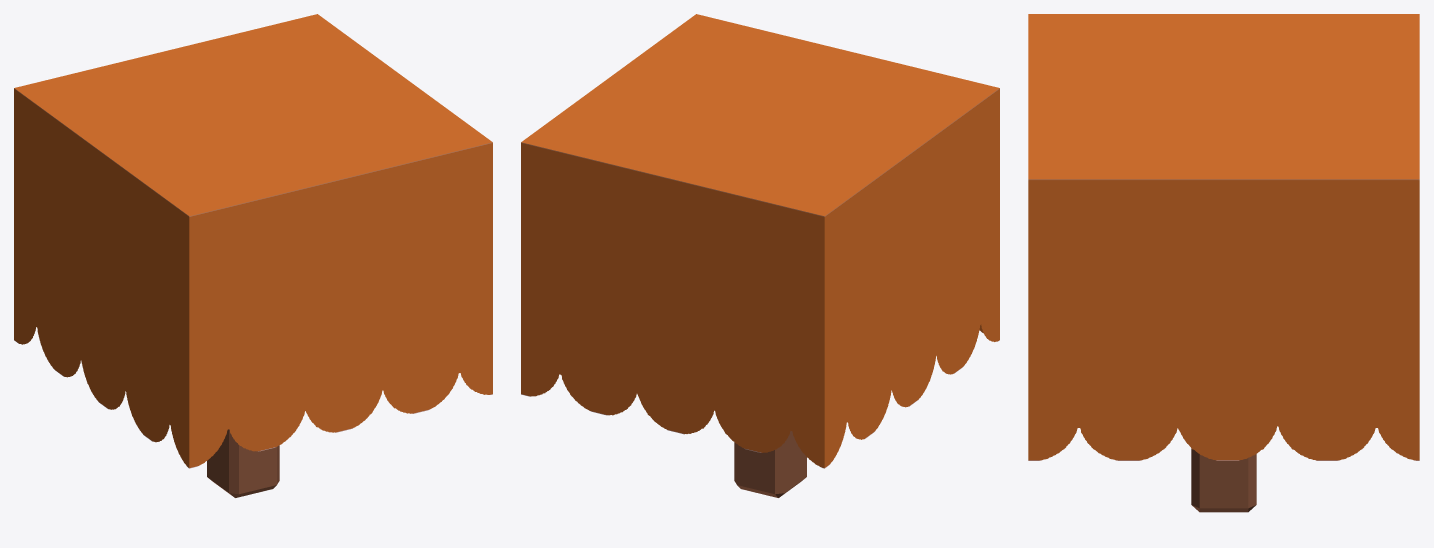
File: Bush 3.fbx
The picture shows the model from 3 angles, left to right: view 1: azimuth 30°, elevation 25°; view 2: azimuth 150°, elevation 25°; view 3: azimuth 270°, elevation 25°; orthographic projection. The views are drawn at different scales.
Parts seen in each view (by area): view 1: Bush_1, Trunk; view 2: Bush_1, Trunk; view 3: Bush_1, Trunk.
Part boxes in pixels (bbox=[...]): Bush_1: bbox=[14, 14, 492, 468]; Trunk: bbox=[207, 429, 279, 497]; Bush_1: bbox=[521, 14, 999, 468]; Trunk: bbox=[734, 431, 806, 497]; Bush_1: bbox=[1028, 14, 1419, 460]; Trunk: bbox=[1191, 448, 1256, 512].
Bounding box in the file's own units: 0.6 × 0.695 × 0.6.
